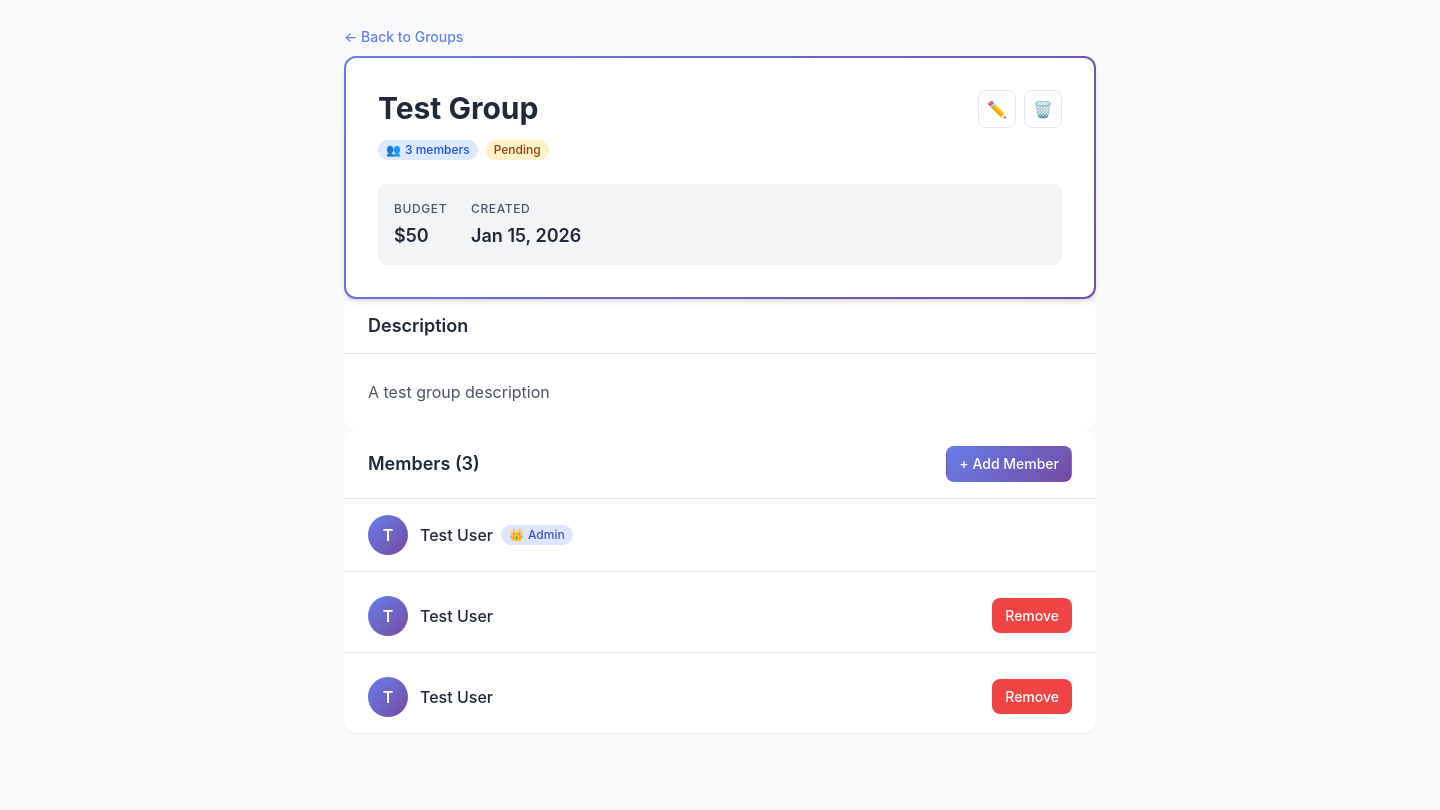
Test: GroupDetailComponent › Delete Group › should show confirmation modal on delete click
This screenshot has width=1440, height=810.
Click the button with test id "delete-btn".
click(1043, 109)  # box [1024, 90, 1062, 128]
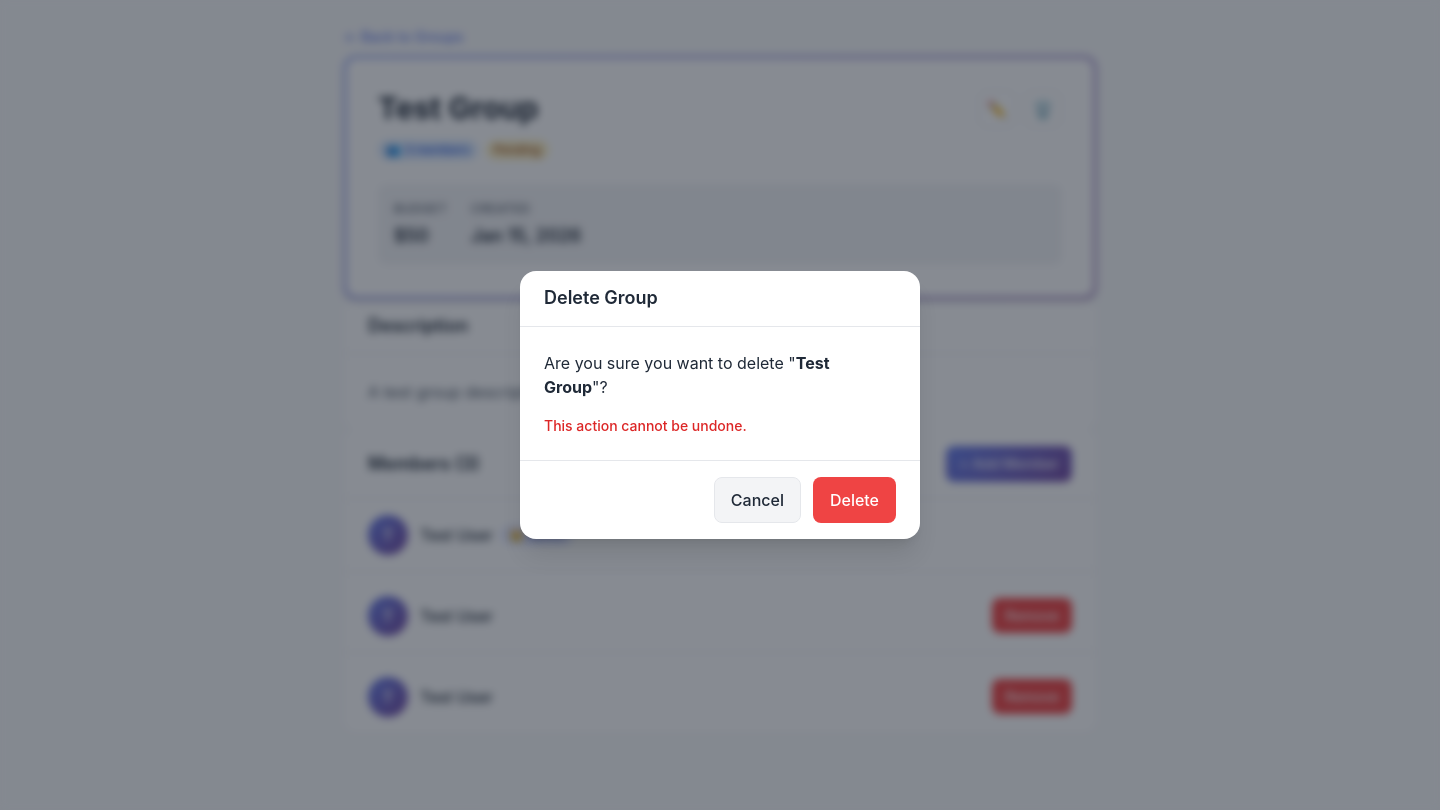
Check: the dialog with test id "delete-modal" is shown
